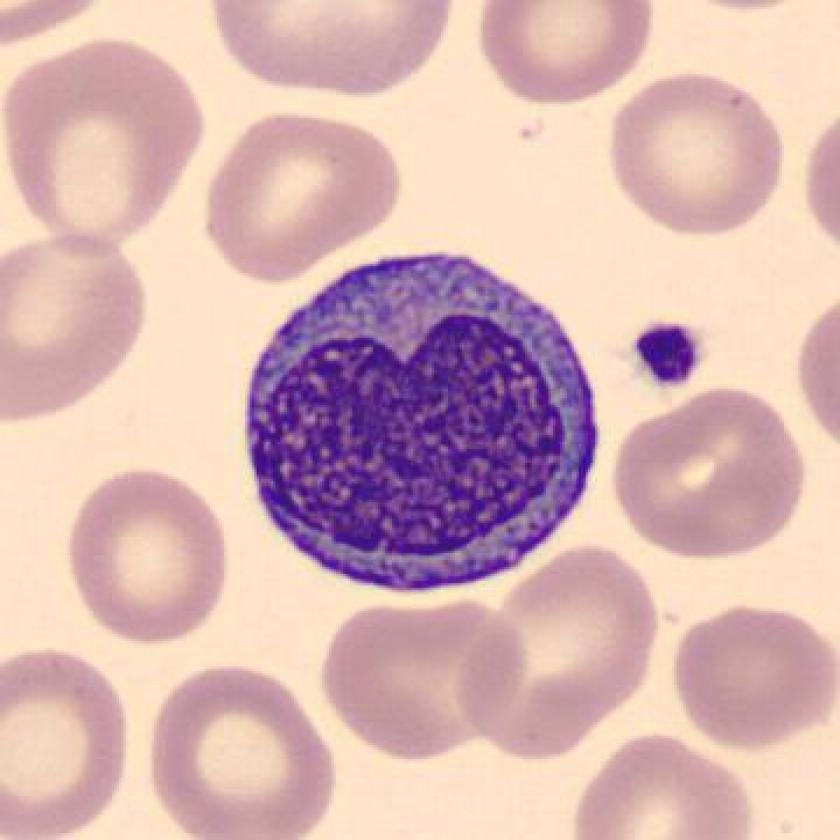monocyte: (227, 225, 622, 612)
